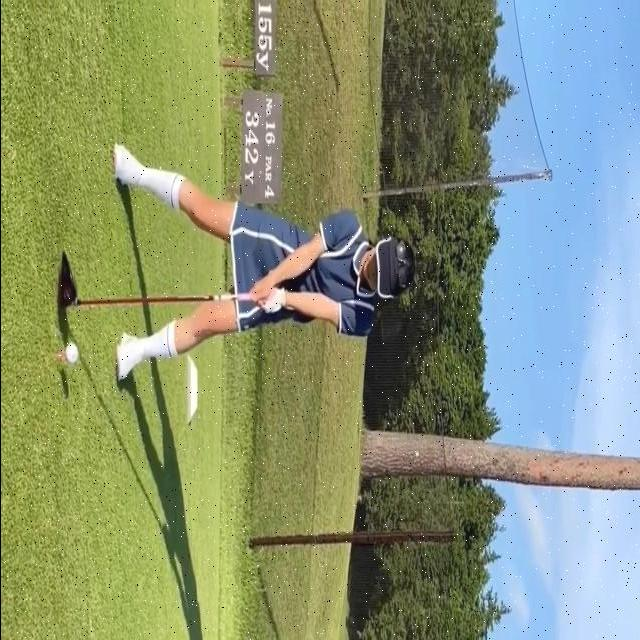golf ball: (64, 341, 78, 367)
golf club-handle: (54, 244, 279, 318)
golf club-head: (58, 249, 78, 310)
